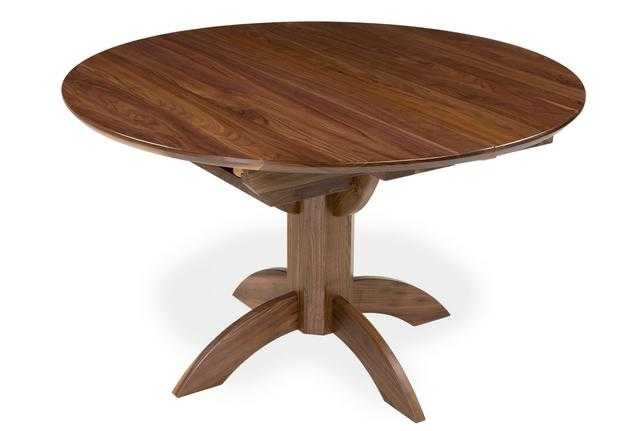obstacle: (62, 22, 584, 421)
